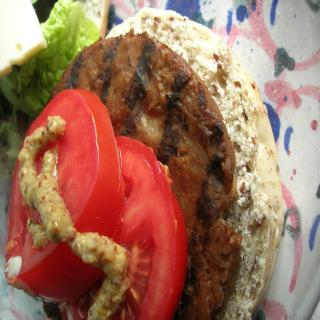tomato: (2, 86, 124, 305), (62, 136, 188, 320)
